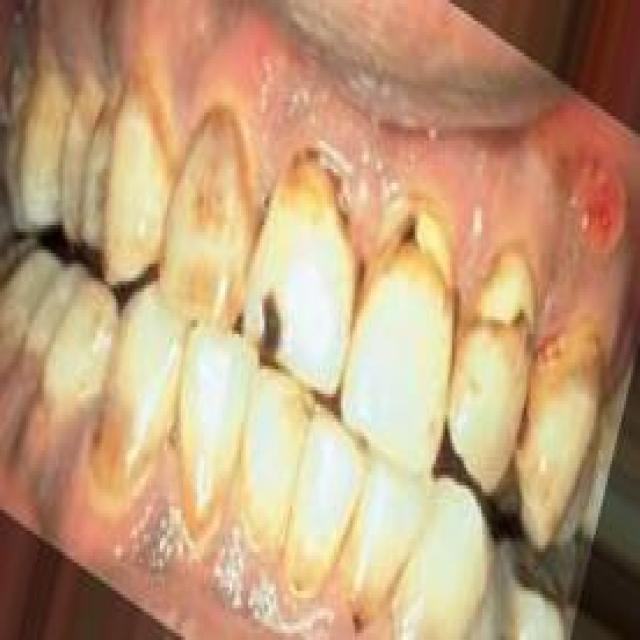caries: (364, 185, 462, 301), (466, 235, 545, 342), (248, 279, 309, 369)
